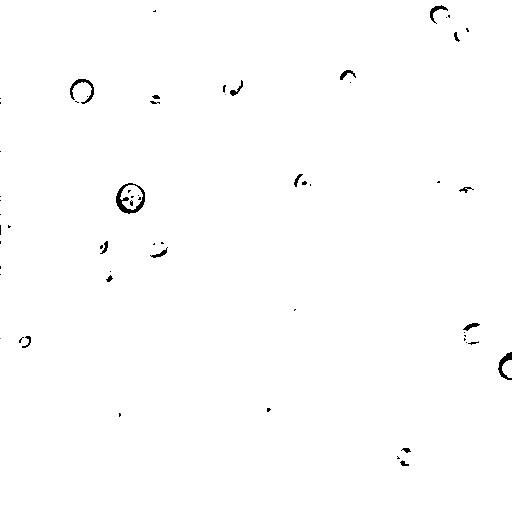micro-algae: (385, 437, 422, 476), (113, 181, 147, 215), (423, 168, 455, 197), (13, 443, 45, 468), (69, 76, 96, 105), (2, 215, 29, 240), (107, 397, 131, 424), (459, 323, 488, 345), (427, 3, 453, 27), (287, 307, 313, 331), (220, 73, 245, 97), (261, 399, 282, 427), (451, 183, 477, 205), (144, 238, 170, 259), (338, 68, 359, 93), (89, 235, 111, 257), (91, 265, 116, 284), (293, 171, 314, 193), (497, 348, 511, 381), (453, 23, 472, 46), (143, 0, 167, 18), (178, 0, 201, 11)
